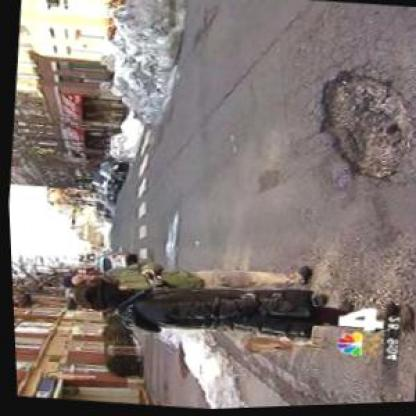pothole: (302, 62, 415, 188)
